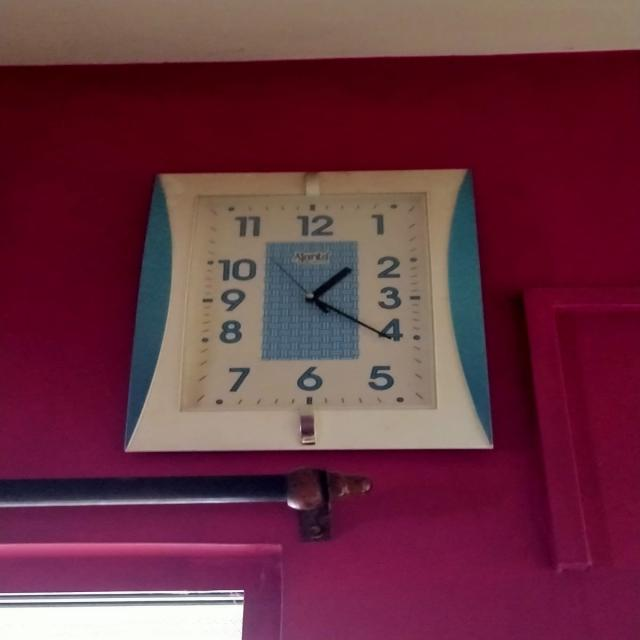Clock: (116, 160, 506, 468)
